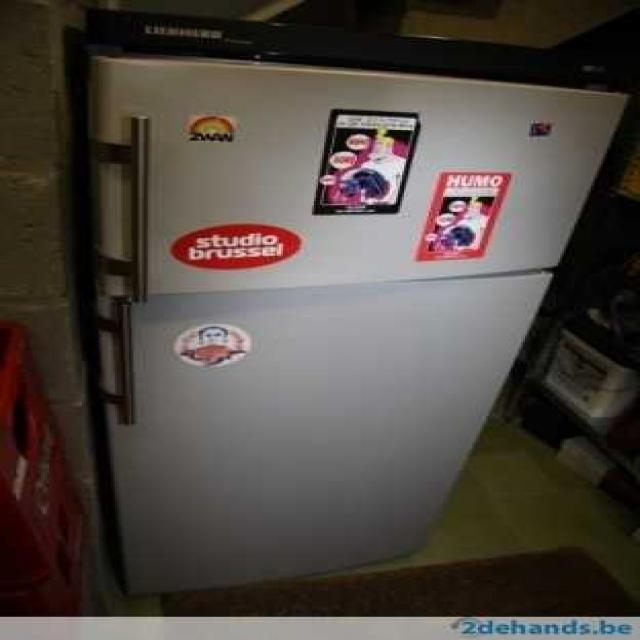refrigerator: (88, 56, 625, 594)
